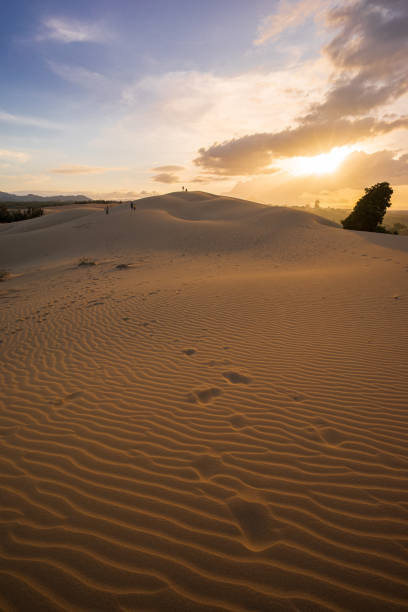human_footprint: (223, 484, 292, 548), (192, 427, 234, 483), (302, 414, 350, 448), (214, 364, 247, 385), (172, 344, 200, 365), (185, 378, 214, 397), (222, 406, 251, 420)
